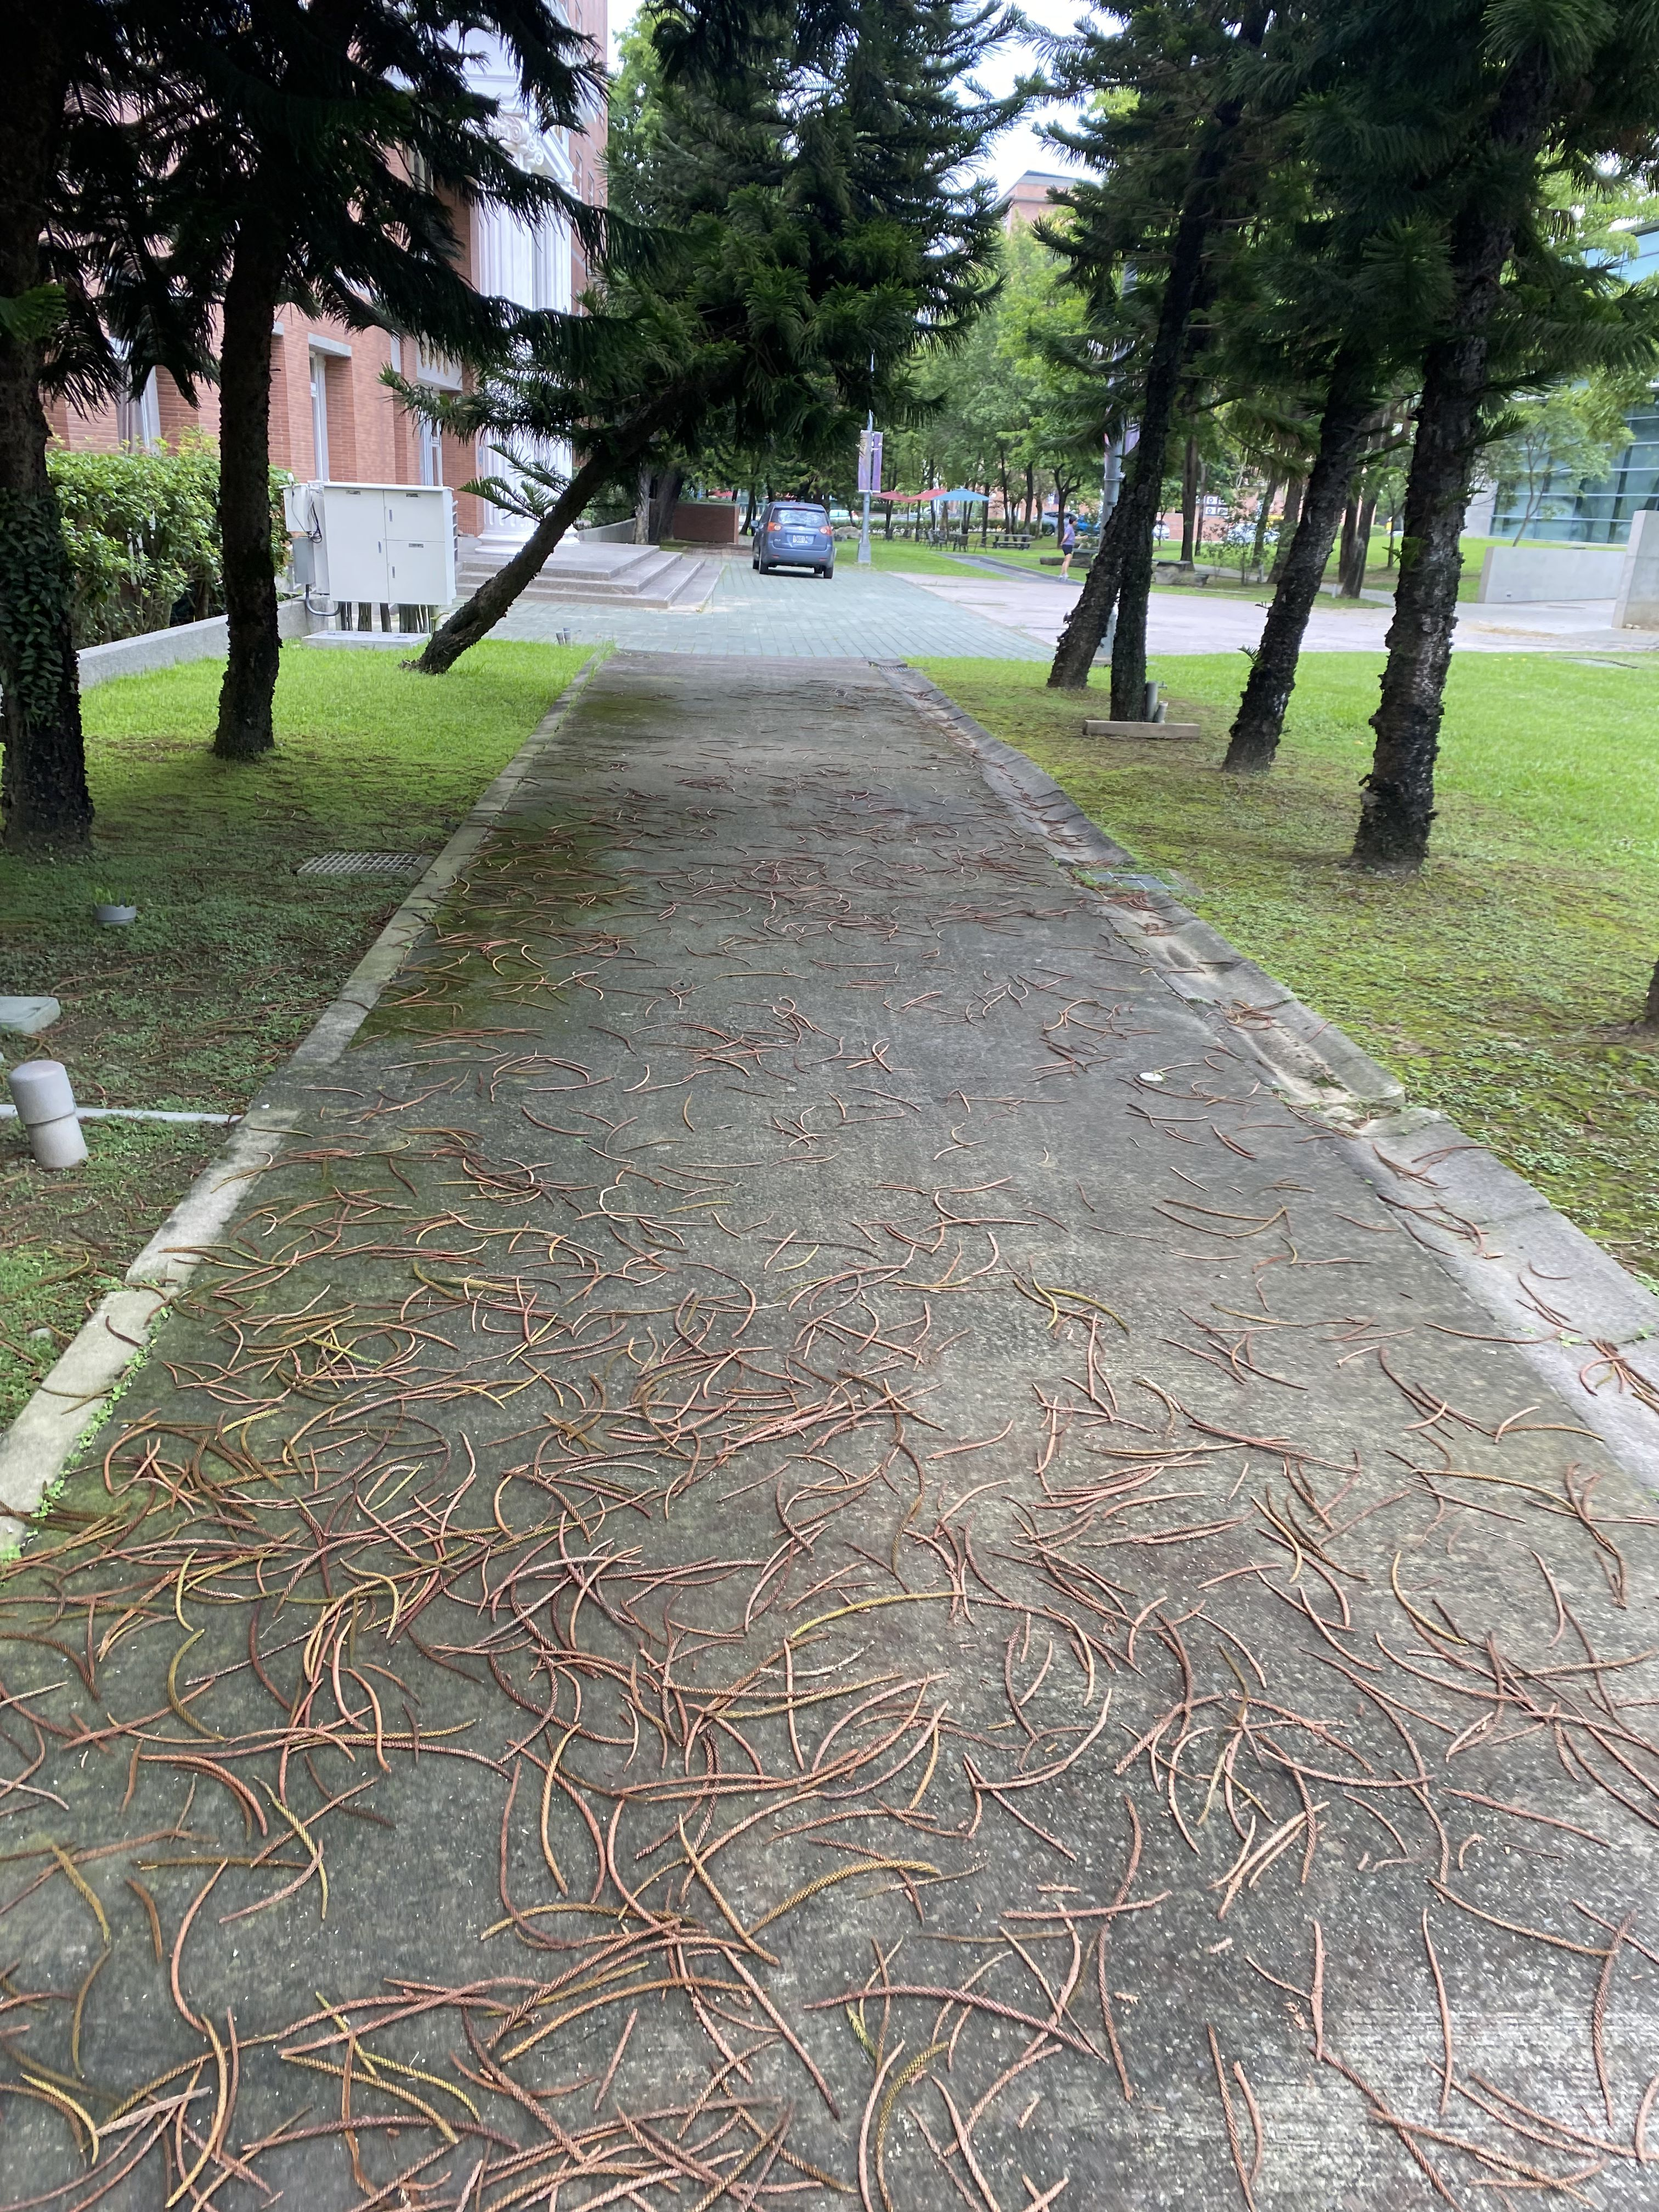sidewalk: (5, 604, 1659, 2212)
